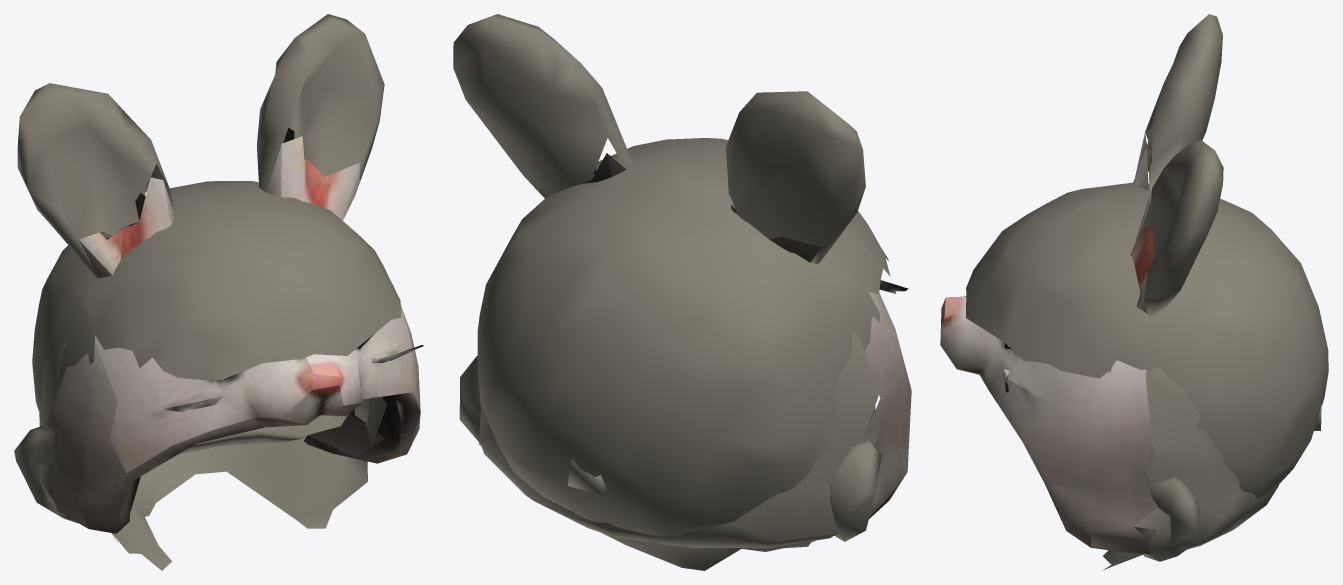
The model's file is rabbit.glb.
The picture shows the model from 3 angles, left to right: view 1: azimuth 30°, elevation 25°; view 2: azimuth 150°, elevation 25°; view 3: azimuth 270°, elevation 25°; orthographic projection. The views are drawn at different scales.
Parts seen in each view (by area): view 1: geometry_0, HoodAnatomicalLining; view 2: HoodAnatomicalLining, geometry_0; view 3: HoodAnatomicalLining, geometry_0.
Part boxes in pixels (bbox=[...]): geometry_0: bbox=[17, 14, 423, 533]; HoodAnatomicalLining: bbox=[14, 181, 401, 570]; HoodAnatomicalLining: bbox=[459, 138, 890, 570]; geometry_0: bbox=[453, 14, 911, 548]; HoodAnatomicalLining: bbox=[966, 182, 1328, 570]; geometry_0: bbox=[940, 14, 1321, 553].
Size of the model in its own units: 0.4645 by 0.5537 by 0.4308.
2 materials, 1 textured.
